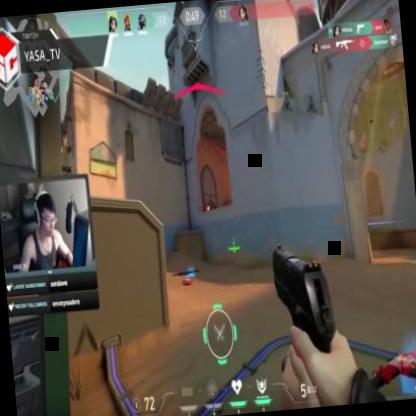enemy: (206, 204, 212, 226)
enemy_head: (206, 205, 210, 211)
